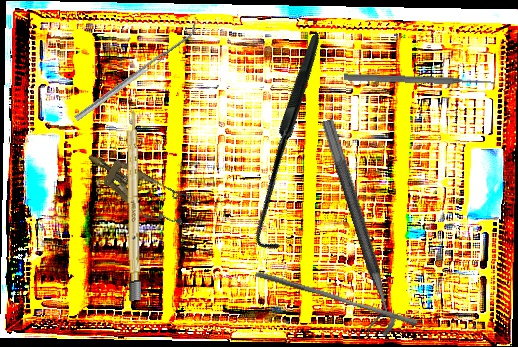Fixation Ring: (303, 118, 400, 341)
Hook Surgical: (178, 32, 406, 256)
Pusher: (253, 270, 420, 327), (343, 72, 496, 88)
Scalpel Handle: (125, 105, 142, 301)
Spatula Surgical: (70, 21, 202, 122)
Speculum: (77, 137, 199, 237)
